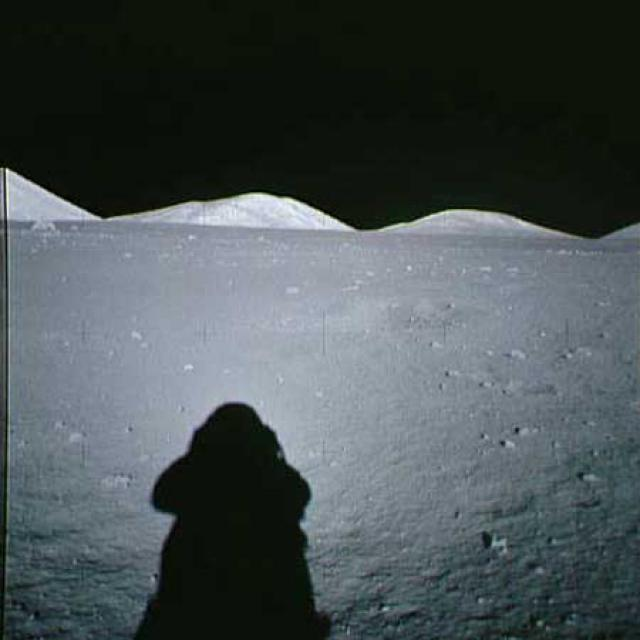crater: (255, 298, 478, 336)
